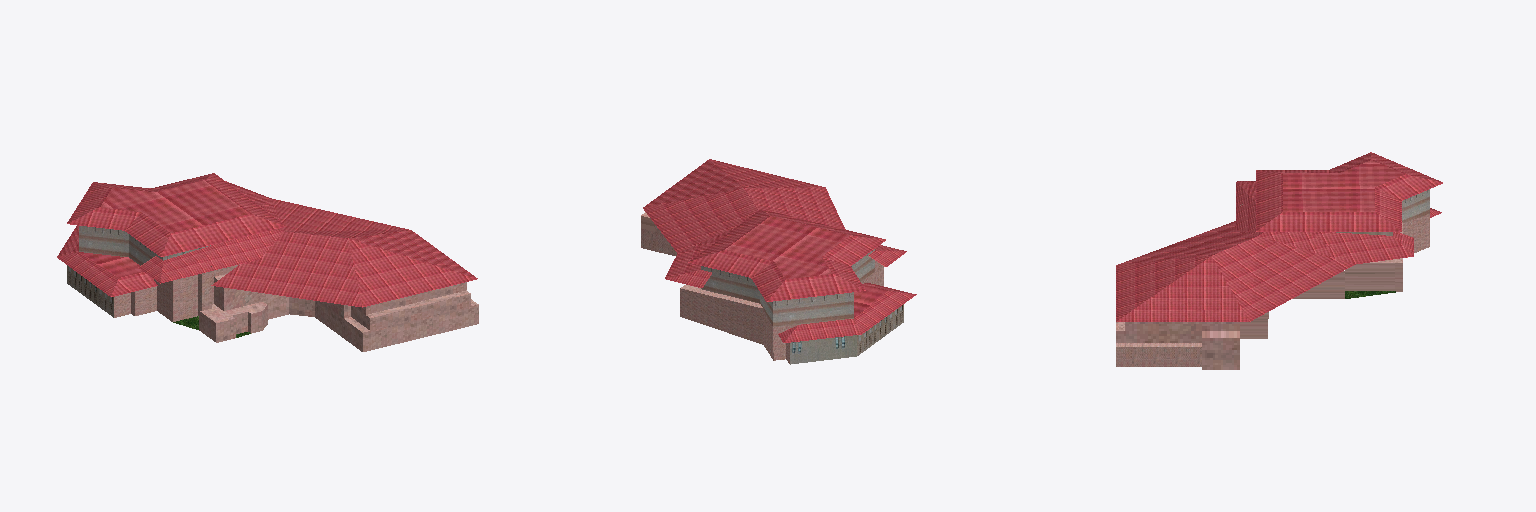
The picture shows the model from 3 angles: view 1: azimuth 30°, elevation 25°; view 2: azimuth 150°, elevation 25°; view 3: azimuth 270°, elevation 25°; orthographic projection.
Parts seen in each view (by area): view 1: VMtl1477, VMtl1476, VMtl1487, VMtl1482, VMtl1490, VMtl1485, VMtl1478, VMtl1479, VMtl1483, VMtl1488; view 2: VMtl1477, VMtl1476, VMtl1485, VMtl1487, VMtl1482, VMtl1480, VMtl1479, VMtl1478, VMtl1483; view 3: VMtl1477, VMtl1476, VMtl1482, VMtl1487, VMtl1485.
Boxes of the visible parts, box(x1,y1,x2,y2) form: VMtl1477: box(138, 181, 477, 307); VMtl1476: box(67, 173, 286, 256); VMtl1487: box(131, 282, 478, 351); VMtl1482: box(114, 277, 466, 342); VMtl1490: box(154, 264, 470, 322); VMtl1485: box(79, 226, 210, 265); VMtl1478: box(57, 252, 118, 296); VMtl1479: box(57, 225, 157, 296); VMtl1483: box(67, 265, 113, 317); VMtl1488: box(80, 252, 142, 277); VMtl1477: box(643, 159, 906, 287); VMtl1476: box(688, 209, 885, 301); VMtl1485: box(701, 249, 874, 327); VMtl1487: box(680, 265, 883, 344); VMtl1482: box(641, 216, 827, 363); VMtl1480: box(790, 335, 856, 364); VMtl1479: box(778, 283, 916, 342); VMtl1478: box(854, 291, 915, 333); VMtl1483: box(857, 304, 903, 355); VMtl1477: box(1116, 181, 1413, 321); VMtl1476: box(1256, 152, 1442, 231); VMtl1482: box(1116, 214, 1429, 369); VMtl1487: box(1116, 263, 1402, 369); VMtl1485: box(1402, 189, 1429, 222).
Size of the model in its own units: 108 by 29.8 by 105.
Materials: 25 (6 with a texture image).